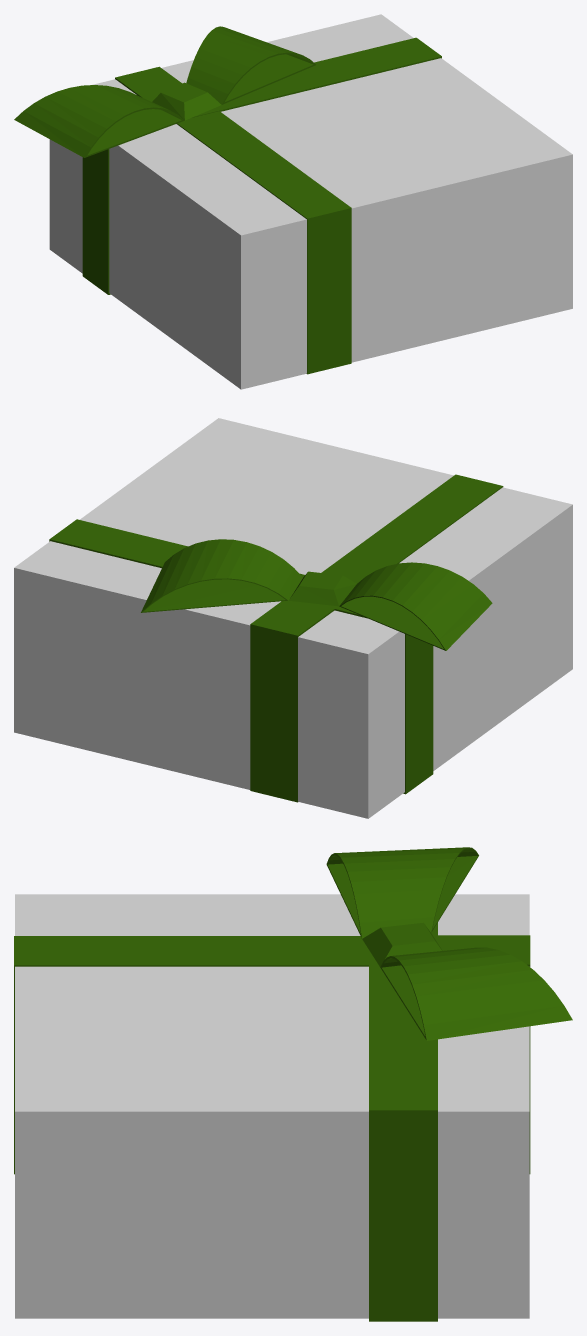
The model's file is Prop_Christmas_Present_White_04.FBX.
3 views of the same model, one above another, from view 1: azimuth 30°, elevation 25°; view 2: azimuth 150°, elevation 25°; view 3: azimuth 270°, elevation 25° (orthographic). The views are drawn at different scales.
Parts seen in each view (by area): view 1: Prop_Christmas_Present_White_04; view 2: Prop_Christmas_Present_White_04; view 3: Prop_Christmas_Present_White_04.
Boxes of the visible parts, box(x1,y1,x2,y2) form: Prop_Christmas_Present_White_04: box(14, 14, 572, 389); Prop_Christmas_Present_White_04: box(14, 418, 572, 818); Prop_Christmas_Present_White_04: box(14, 847, 572, 1321).
Size of the model in its own units: 387 by 178 by 360.
